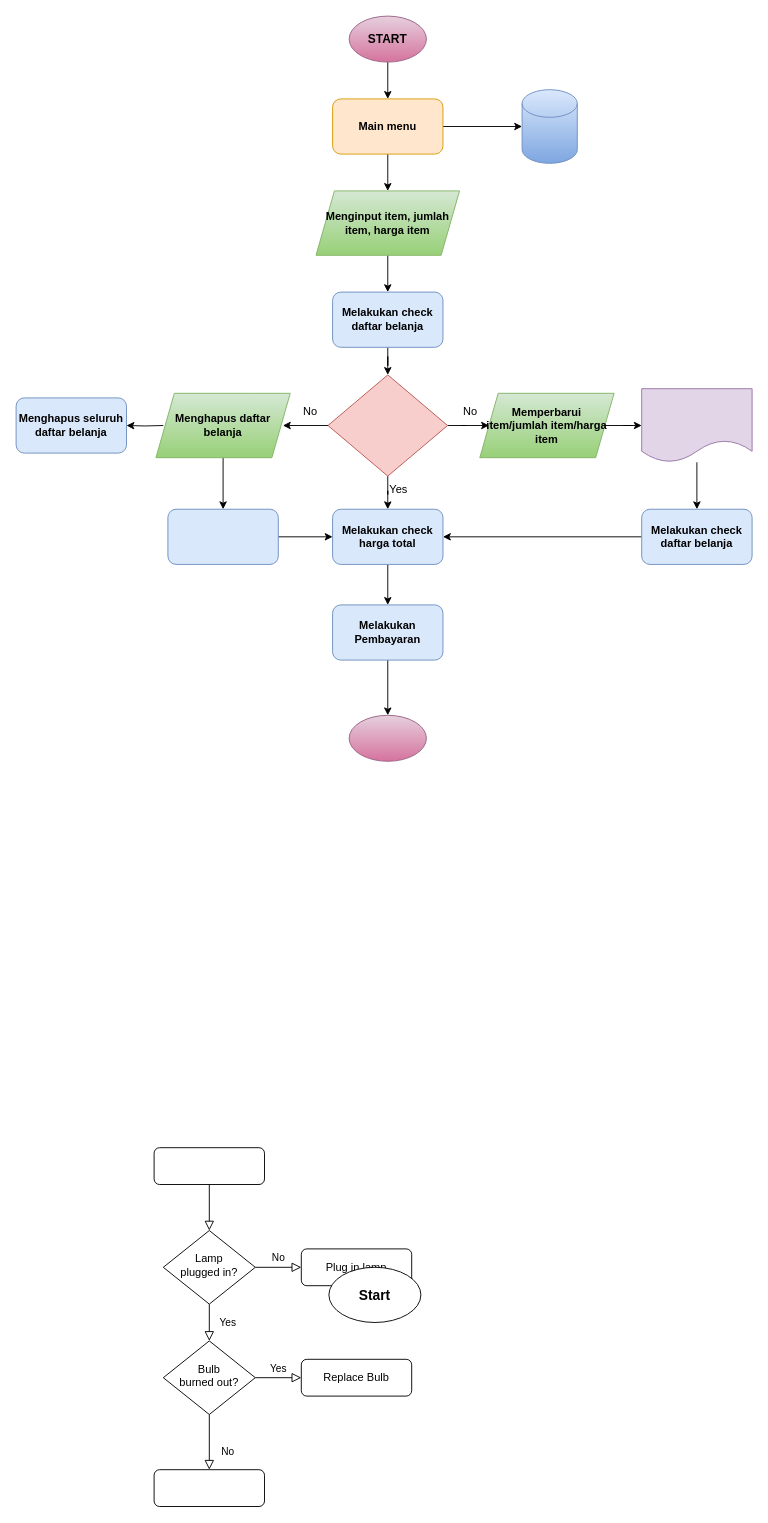
Some shapes in this 768 by 1523 pixel diagram are drawn without their labels. Each missing label, with the box of its shape:
Apakah produk tersebut sudah sesuai?: (327, 374, 448, 476)
END: (348, 714, 426, 761)
ID Transaksi: (521, 89, 577, 163)
Lamp doesn't work: (153, 1147, 264, 1184)
Menghapus item: (167, 508, 278, 564)
Repair Lamp: (153, 1469, 264, 1506)
Update daftar belanja: (641, 388, 752, 462)
